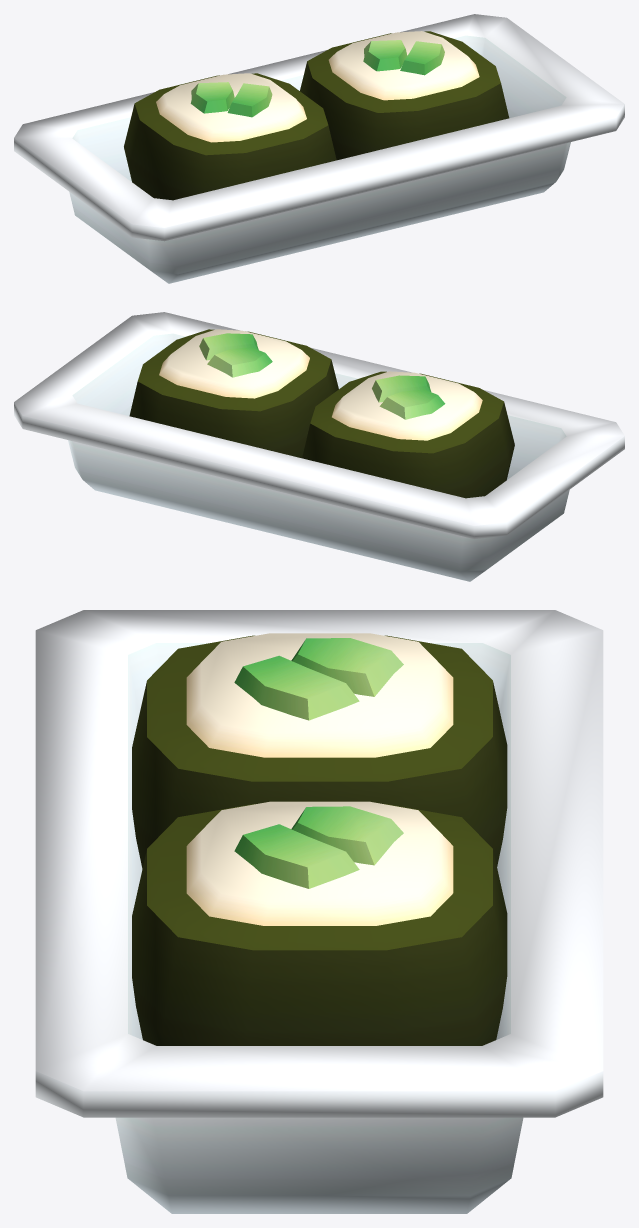
File: Set_1_001.gltf
3 renders of one model, top to bottom at view 1: azimuth 30°, elevation 25°; view 2: azimuth 150°, elevation 25°; view 3: azimuth 270°, elevation 25°, orthographic. The views are drawn at different scales.
Parts seen in each view (by area): view 1: Box_Plastic_White_Small_001.003, Sushi_Small_Nori_001.001, Sushi_Small_Nori_001.004; view 2: Box_Plastic_White_Small_001.003, Sushi_Small_Nori_001.001, Sushi_Small_Nori_001.004; view 3: Box_Plastic_White_Small_001.003, Sushi_Small_Nori_001.004, Sushi_Small_Nori_001.001.
Part boxes in pixels (x1,y1,x2,y2): Box_Plastic_White_Small_001.003: (14,14,624,283); Sushi_Small_Nori_001.001: (124,73,336,200); Sushi_Small_Nori_001.004: (300,31,509,160); Box_Plastic_White_Small_001.003: (14,312,624,581); Sushi_Small_Nori_001.001: (302,371,514,498); Sushi_Small_Nori_001.004: (129,329,338,458); Box_Plastic_White_Small_001.003: (35,610,603,1213); Sushi_Small_Nori_001.004: (132,801,507,1045); Sushi_Small_Nori_001.001: (132,633,507,868).
Bounding box in the file's own units: 2 × 0.5427 × 0.9973.
1 material, 1 textured.
